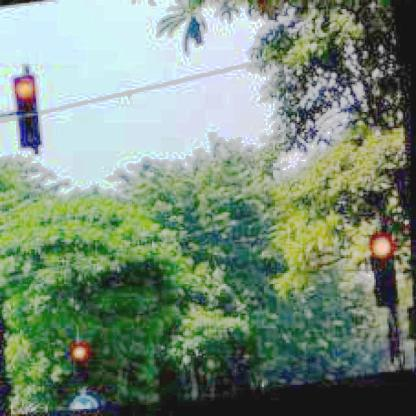Traffic Light -Red-: (370, 241, 401, 316), (14, 76, 44, 152)
